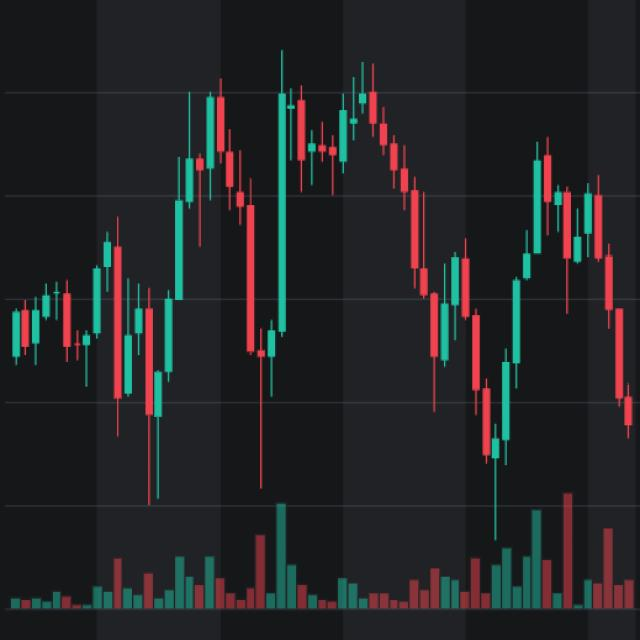Resistance-Emerging: (156, 72, 572, 468)
